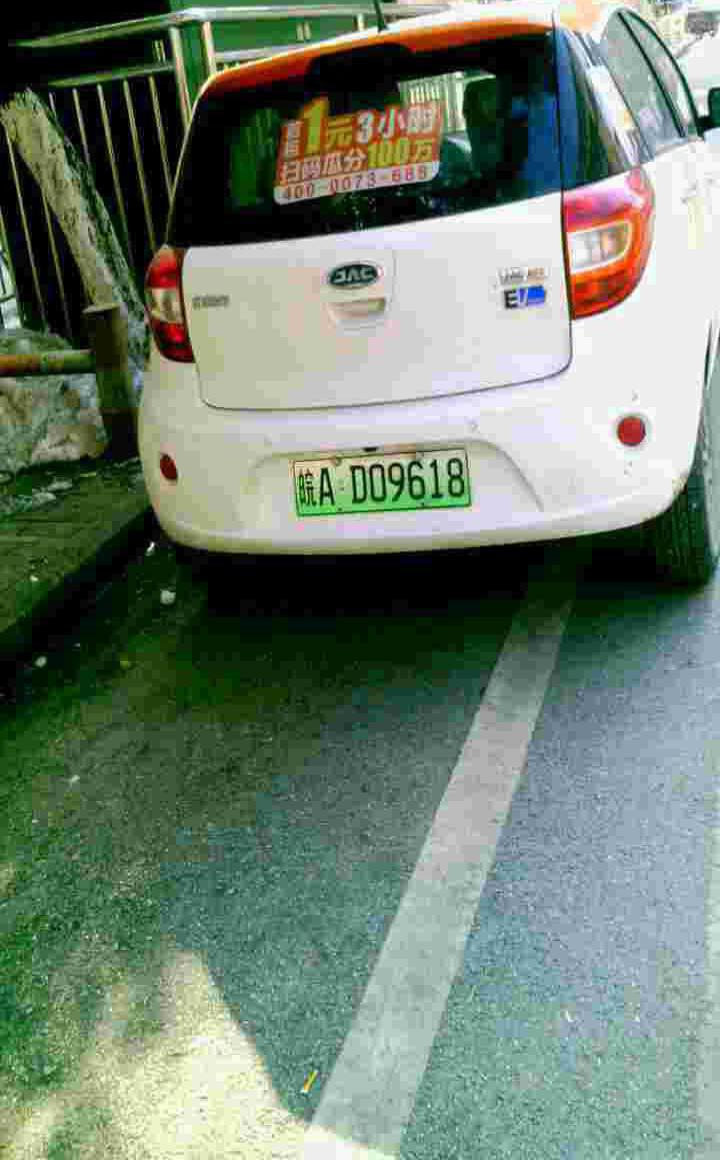car_green: (285, 454, 472, 514)
